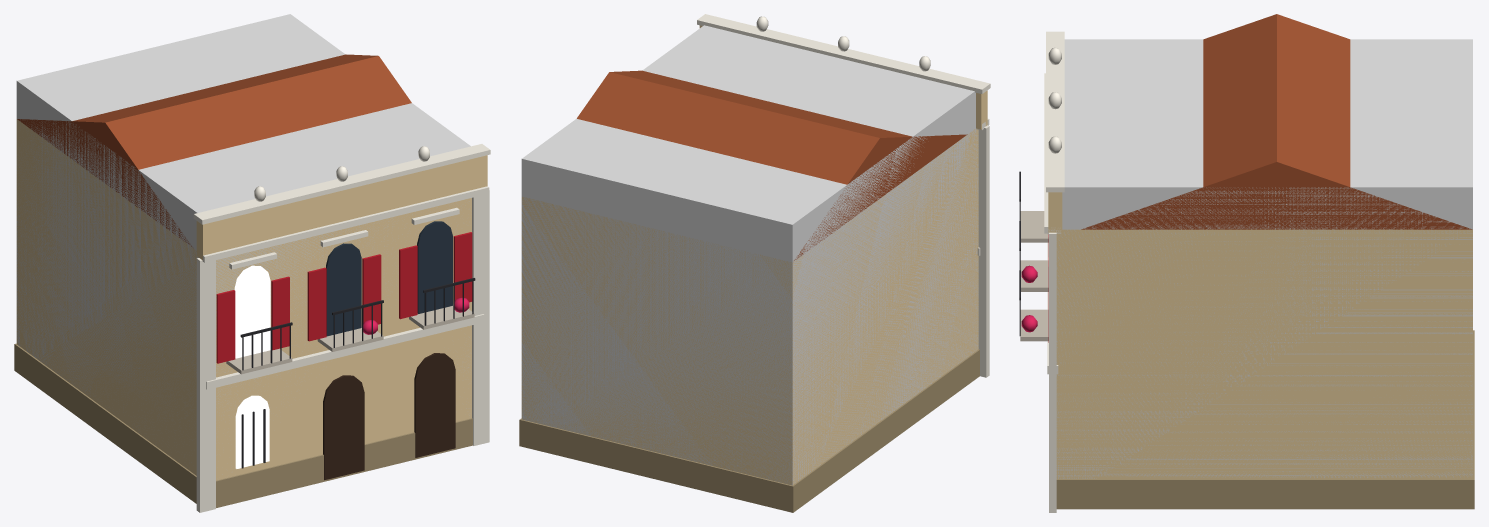
Rendered from sobrado_8.glb.
3 views of the same model, side by side, from view 1: azimuth 30°, elevation 25°; view 2: azimuth 150°, elevation 25°; view 3: azimuth 270°, elevation 25° (orthographic). The views are drawn at different scales.
Visible parts, largest first — view 1: sobrado_8_Malla, COL_0; view 2: COL_0, sobrado_8_Malla; view 3: sobrado_8_Malla, COL_0.
Boxes of the visible parts, x1,y1,x2,y2 form: sobrado_8_Malla: (14,54,490,512); COL_0: (16,14,470,474); COL_0: (521,25,978,485); sobrado_8_Malla: (519,14,990,512); sobrado_8_Malla: (1019,14,1474,512); COL_0: (1056,39,1472,478).
Bounding box in the file's own units: 7.94 × 8.2 × 9.76.
